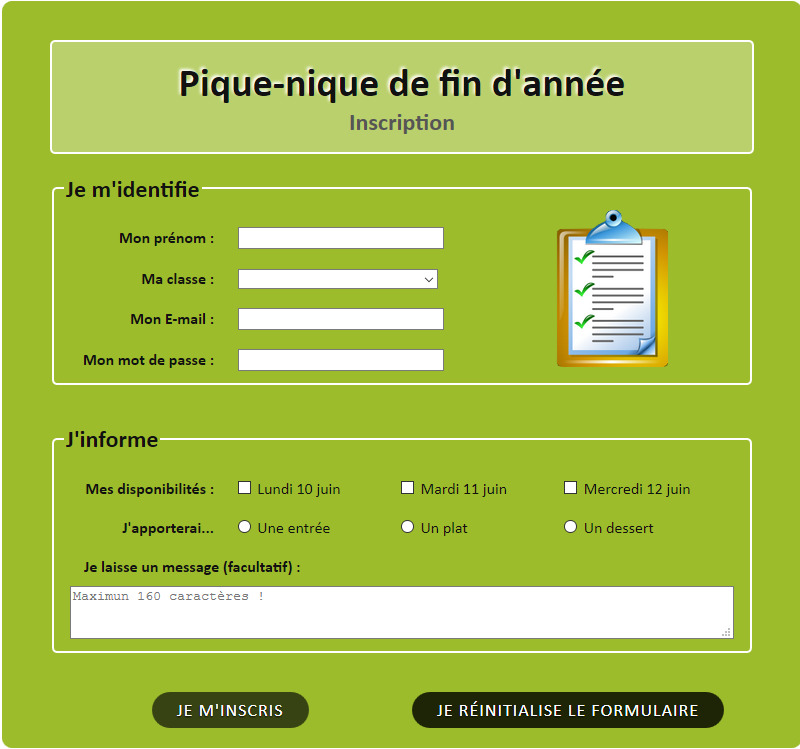_form_: (49, 333, 465, 749), (334, 330, 750, 746), (60, 7, 467, 423)
button: (412, 691, 725, 729), (152, 692, 311, 729)
checkbox: (397, 479, 416, 495), (236, 480, 252, 495), (562, 479, 577, 494)
checkbox_with_label: (560, 478, 694, 497), (394, 478, 507, 497), (234, 479, 339, 497)
field: (69, 585, 736, 642), (236, 307, 445, 332), (236, 225, 444, 250), (236, 348, 444, 372)
field_with_label: (66, 561, 738, 643), (80, 346, 450, 375), (120, 221, 447, 253), (130, 305, 449, 335), (139, 263, 442, 293)
radio: (561, 518, 577, 535), (237, 519, 255, 534), (399, 519, 415, 535)
radio_with_label: (557, 515, 655, 537), (233, 516, 330, 537), (394, 515, 465, 537)
select: (236, 268, 438, 290)
